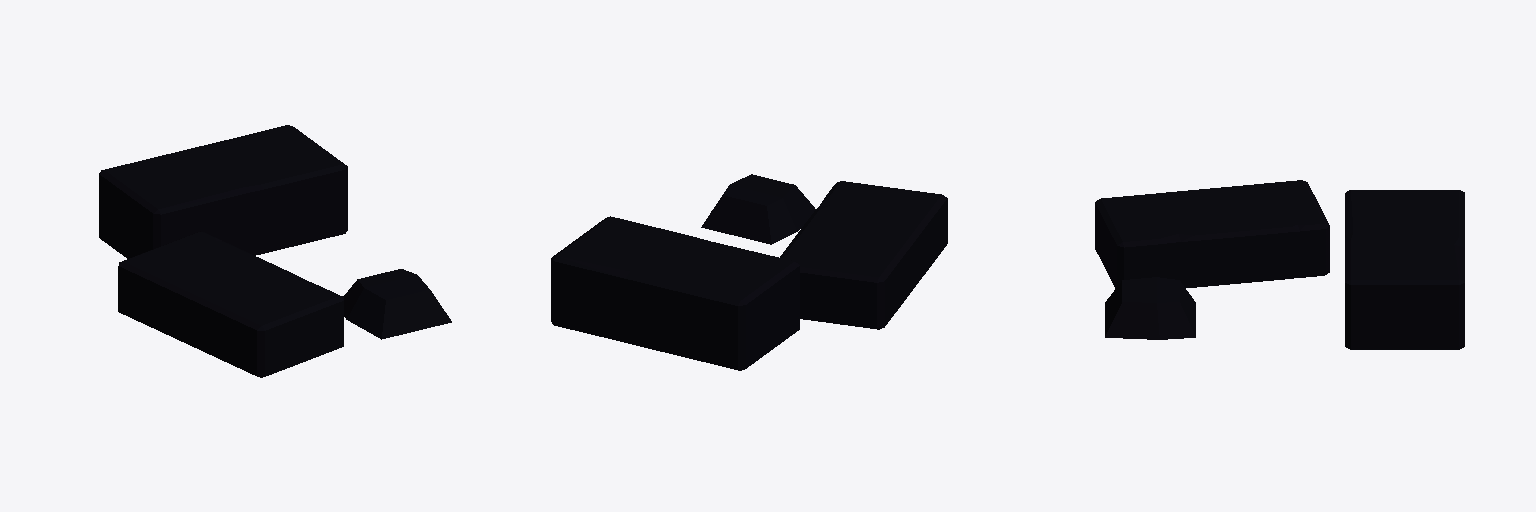
The model's file is Floor_BricksSeparate.obj.
3 renders of one model, left to right at view 1: azimuth 30°, elevation 25°; view 2: azimuth 150°, elevation 25°; view 3: azimuth 270°, elevation 25°, orthographic.
Parts seen in each view (by area): view 1: Floor_BricksSeparate.001; view 2: Floor_BricksSeparate.001; view 3: Floor_BricksSeparate.001.
Boxes of the visible parts, <box> form: Floor_BricksSeparate.001: <box>99,125,451,377</box>; Floor_BricksSeparate.001: <box>551,174,947,370</box>; Floor_BricksSeparate.001: <box>1095,180,1464,349</box>.
Bounding box in the file's own units: 0.9509 × 0.2561 × 1.2.